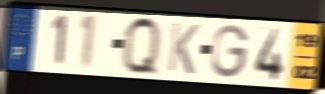1: (76, 13, 99, 72), (49, 14, 68, 69)
4: (252, 26, 286, 83)
G: (210, 23, 251, 80)
K: (165, 20, 201, 77)
Q: (121, 14, 162, 80)
